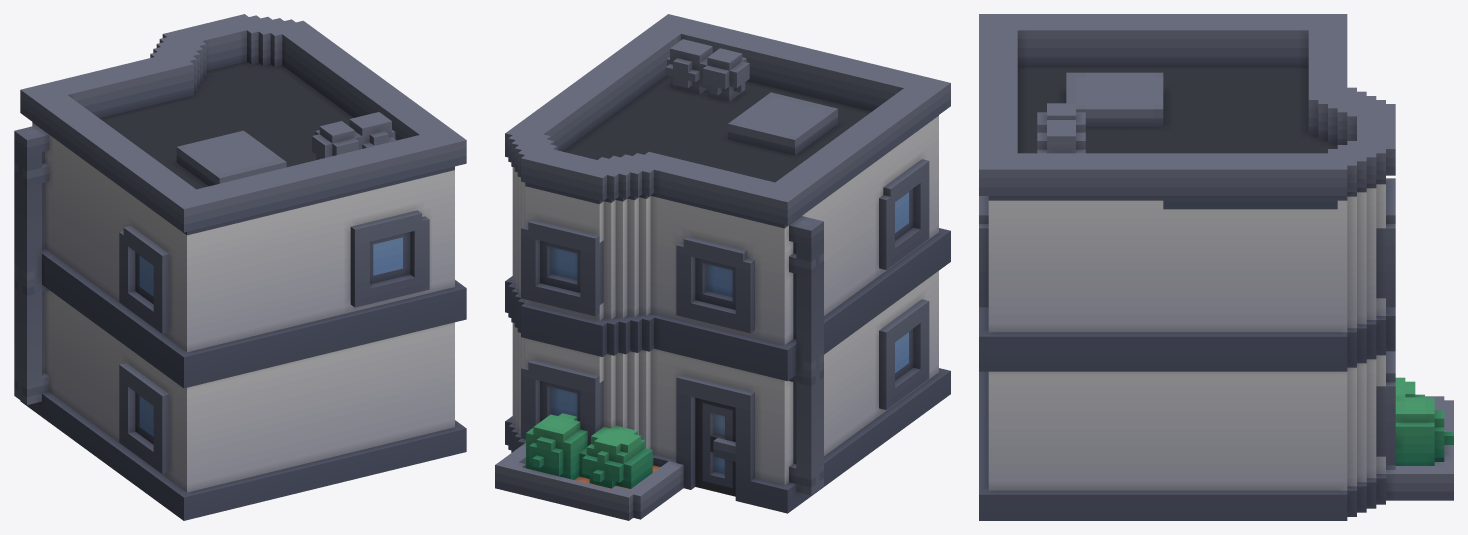
The model's file is building_c.glb.
3 renders of one model, left to right at view 1: azimuth 30°, elevation 25°; view 2: azimuth 150°, elevation 25°; view 3: azimuth 270°, elevation 25°, orthographic. The views are drawn at different scales.
Visible parts, largest first — view 1: voxels; view 2: voxels; view 3: voxels.
Boxes of the visible parts, x1,y1,x2,y2 form: voxels: (14, 14, 466, 520); voxels: (495, 14, 950, 520); voxels: (979, 14, 1453, 520).
Size of the model in its own units: 0.8931 by 0.9154 by 1.09.
